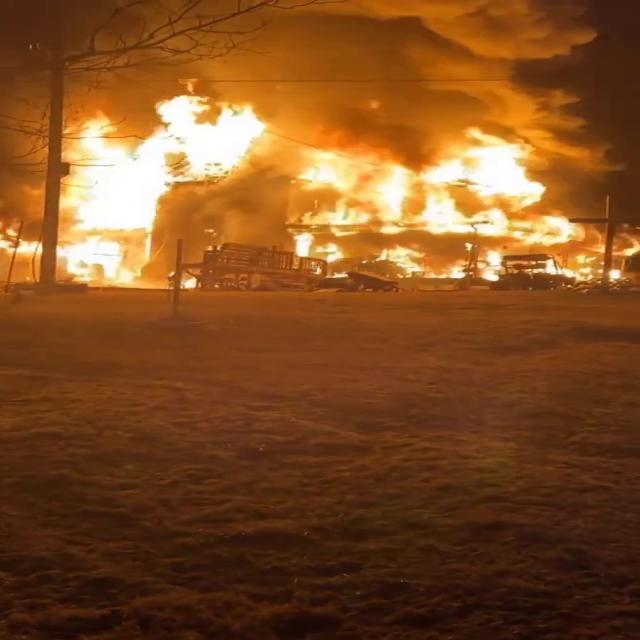Fire: (4, 82, 633, 286)
Smoke: (0, 0, 636, 114)
